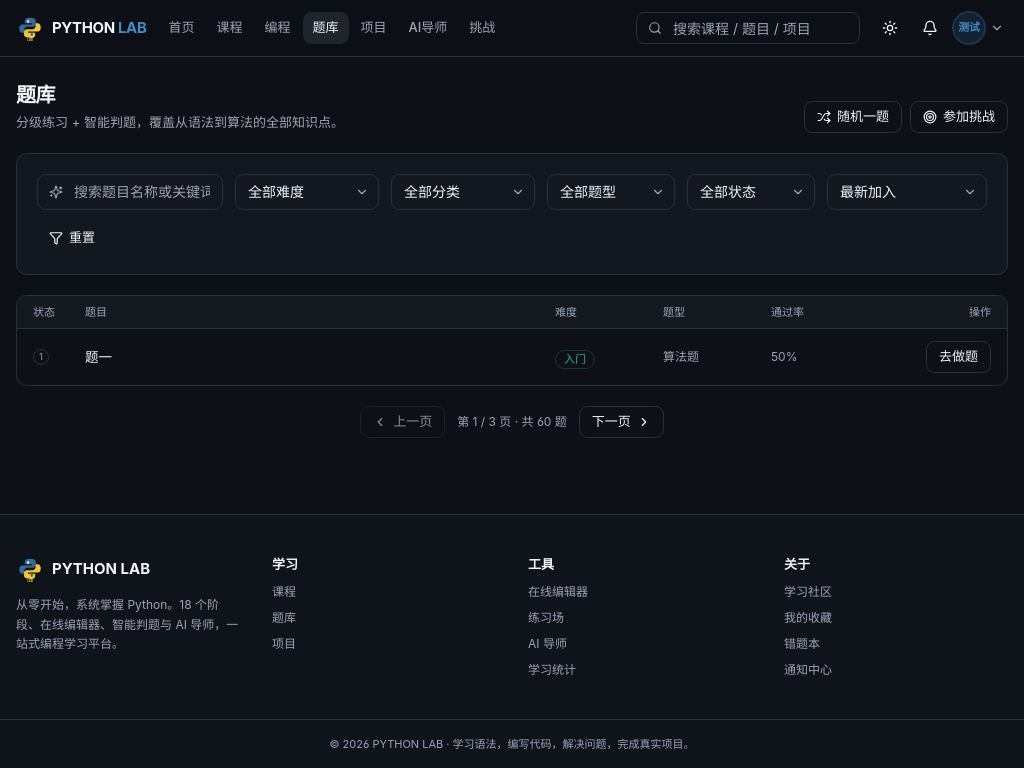
Test case: problems · 分页 › 点「下一页」→ 请求 page=2
Expected: the link "题一" is shown, 85,349 -> 112,365
Click the button "下一页".
click(621, 422)  # box 579,406 -> 664,438
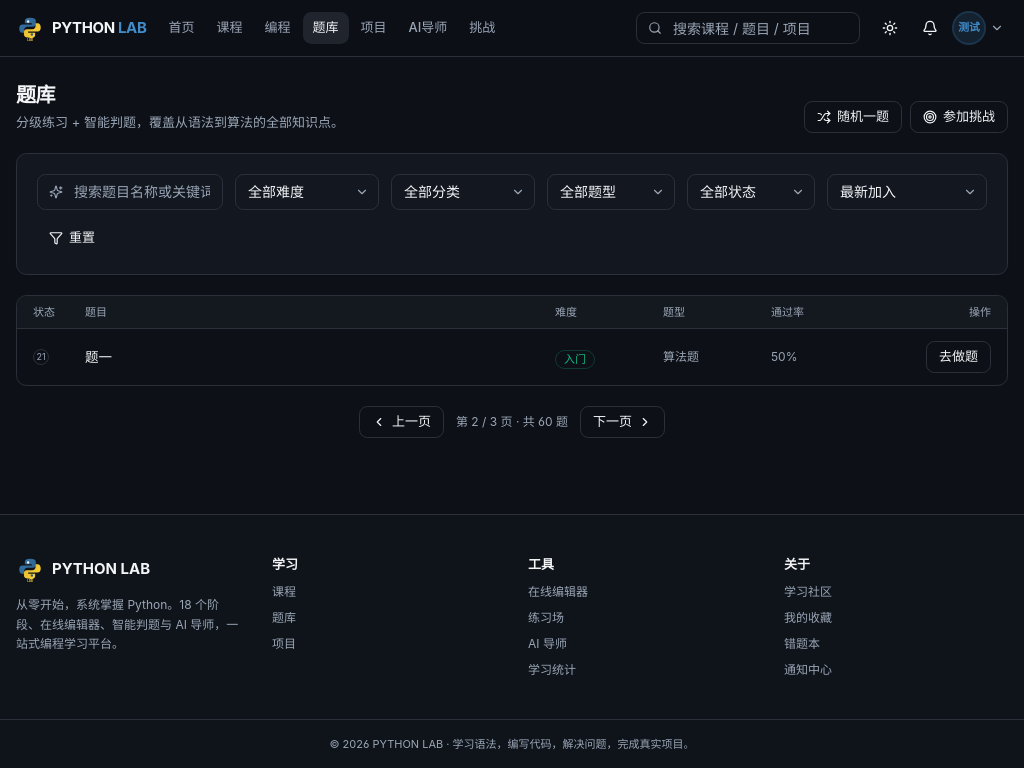
Expected: the button "上一页" is enabled, 359,406 -> 444,438
